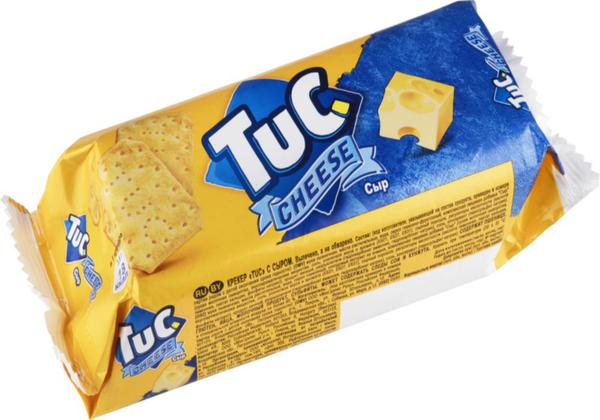crackers tuc: (23, 1, 557, 400)
